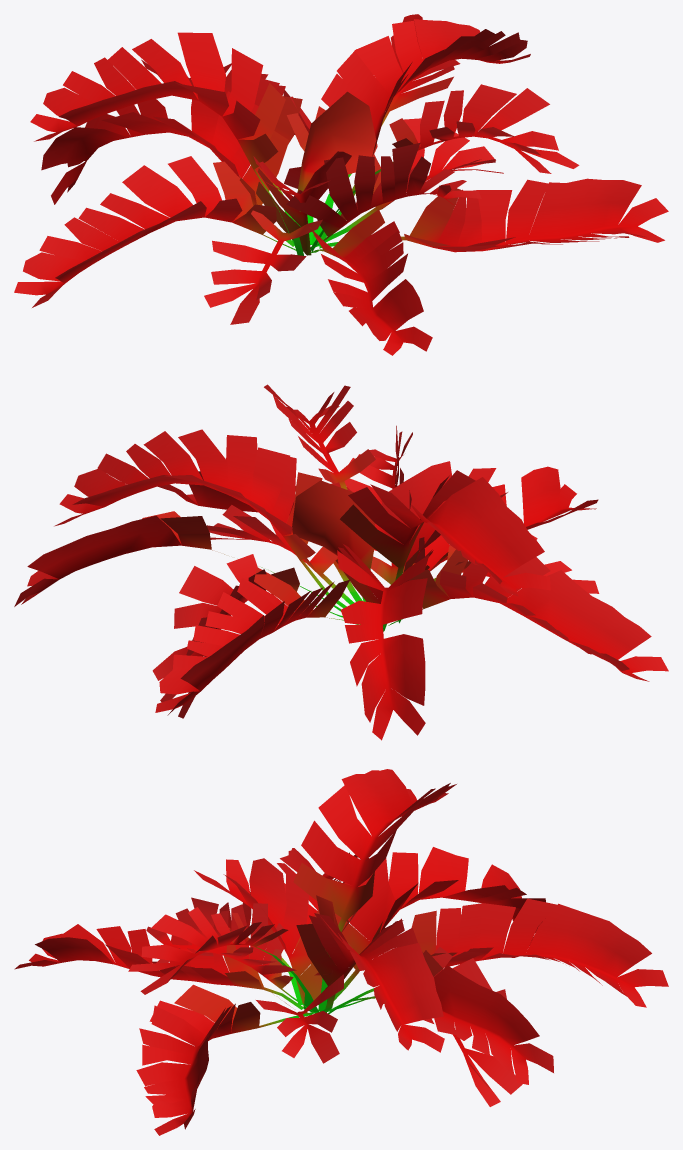
Rendered from Var4_LOD1.fbx.
3 renders of one model, top to bottom at view 1: azimuth 30°, elevation 25°; view 2: azimuth 150°, elevation 25°; view 3: azimuth 270°, elevation 25°, orthographic. The views are drawn at different scales.
Parts seen in each view (by area): view 1: _e29b_Var4_LOD1; view 2: _e29b_Var4_LOD1; view 3: _e29b_Var4_LOD1.
Boxes of the visible parts, x1,y1,x2,y2 form: _e29b_Var4_LOD1: (14,14,668,355); _e29b_Var4_LOD1: (14,384,668,740); _e29b_Var4_LOD1: (14,769,668,1135).
Size of the model in its own units: 159 by 61.12 by 165.
